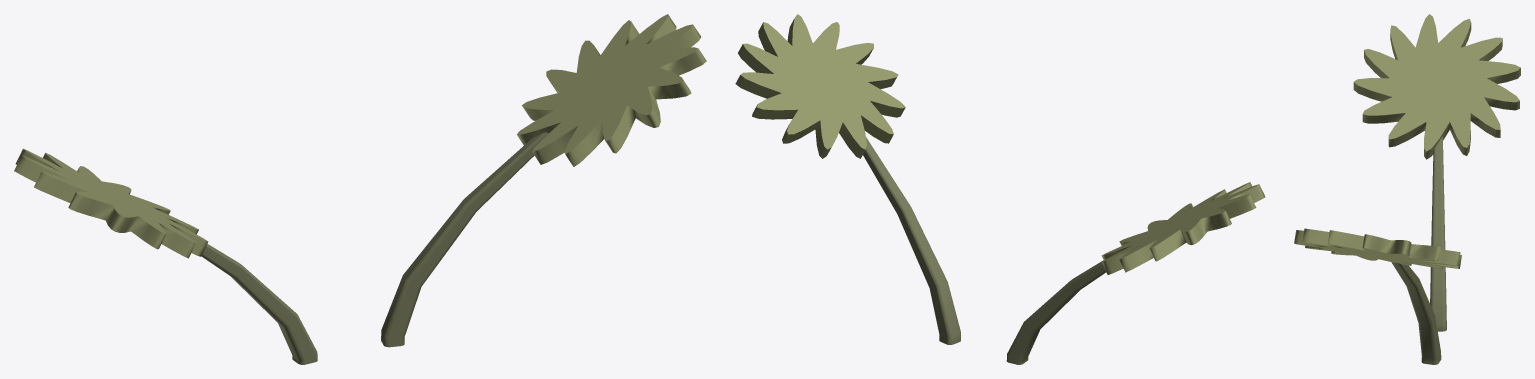
The model's file is Small Plants.glb.
3 views of the same model, side by side, from view 1: azimuth 30°, elevation 25°; view 2: azimuth 150°, elevation 25°; view 3: azimuth 270°, elevation 25° (orthographic). The views are drawn at different scales.
Parts seen in each view (by area): view 1: Flower (×2), Stem (×2); view 2: Flower (×2), Stem (×2); view 3: Flower (×2), Stem (×2).
Part boxes in pixels (x1,y1,x2,y2): Flower (×2): (14, 14, 706, 258); Stem (×2): (201, 132, 548, 364); Flower (×2): (735, 14, 1265, 274); Stem (×2): (863, 137, 1105, 364); Flower (×2): (1294, 14, 1520, 268); Stem (×2): (1391, 136, 1446, 364).
Bounding box in the file's own units: 0.1051 × 0.0454 × 0.0407.
